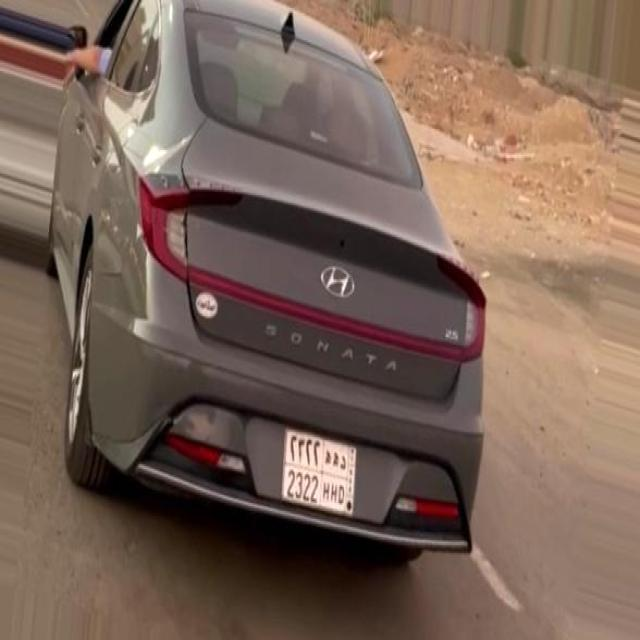Car-plate: (278, 418, 371, 524)
